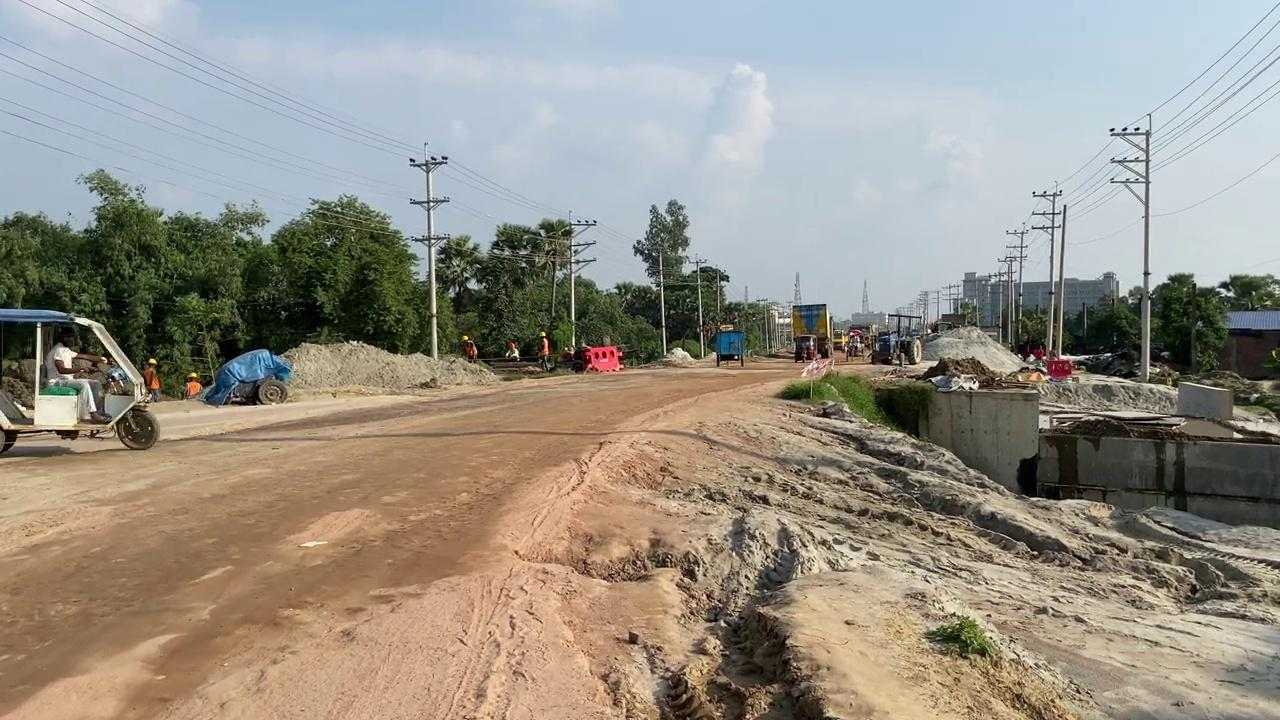Muddy road: (1, 354, 1277, 717)
Obstacle: (33, 390, 79, 427)
Pole: (408, 145, 449, 359), (1054, 203, 1067, 357), (657, 246, 667, 357)
Traffic-sign: (631, 197, 690, 357)
Tree: (0, 307, 160, 454), (869, 312, 923, 365), (715, 329, 745, 367), (928, 312, 966, 334), (844, 327, 867, 360)
